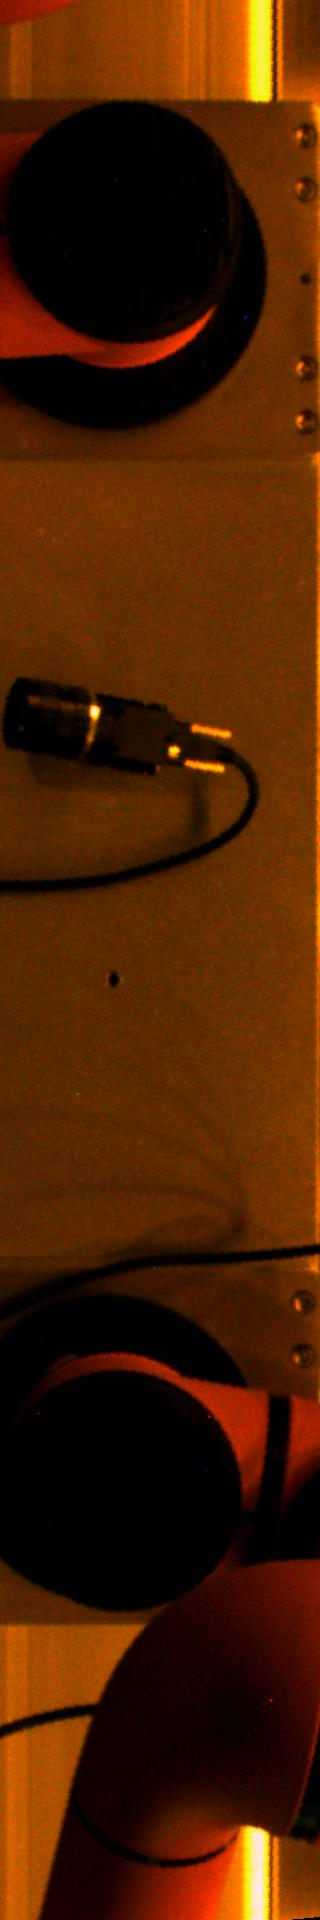keyPoint_2: (98, 965, 128, 996)
